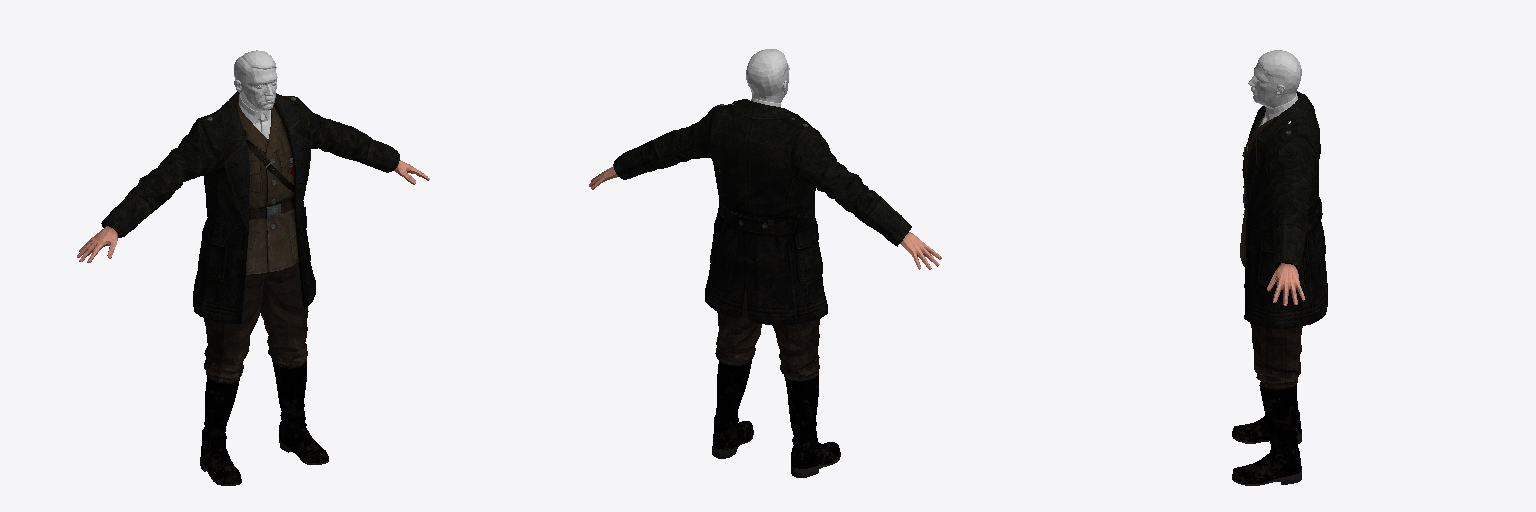
The picture shows the model from 3 angles: view 1: azimuth 30°, elevation 25°; view 2: azimuth 150°, elevation 25°; view 3: azimuth 270°, elevation 25°; orthographic projection.
Visible parts, largest first — view 1: Mesh; view 2: Mesh; view 3: Mesh.
Boxes of the visible parts, box(x1,y1,x2,y2) form: Mesh: box(77, 50, 429, 485); Mesh: box(589, 49, 941, 477); Mesh: box(1232, 50, 1327, 485).
Size of the model in its own units: 69.26 by 77.61 by 16.63.
Materials: 3 (1 with a texture image).